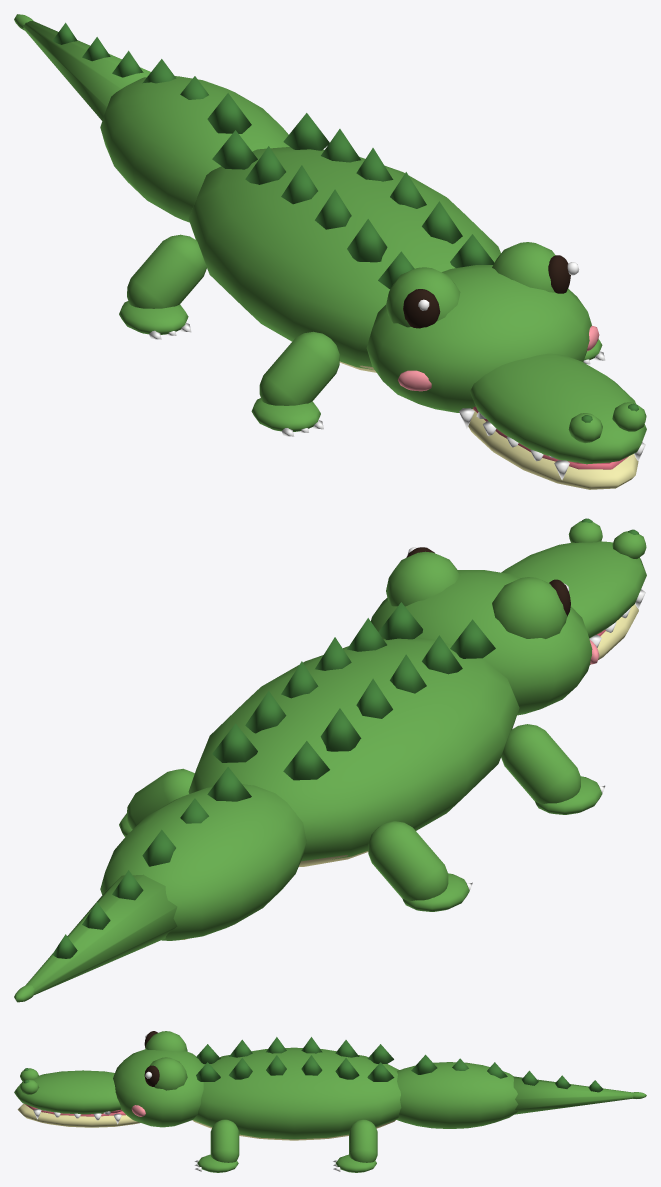
Rendered from crocodile.glb.
The picture shows the model from 3 angles, top to bottom: view 1: azimuth 30°, elevation 25°; view 2: azimuth 150°, elevation 25°; view 3: azimuth 270°, elevation 25°; orthographic projection. The views are drawn at different scales.
Visible parts, largest first — view 1: Croc_Body, Croc_Head, Croc_Tail1, Croc_Leg_FL, Croc_Leg_BL, Croc_Tail2, Croc_Jaw; view 2: Croc_Body, Croc_Head, Croc_Tail1, Croc_Tail2, Croc_Leg_BL, Croc_Leg_FL, Croc_Leg_BR, Croc_Jaw; view 3: Croc_Body, Croc_Head, Croc_Tail1, Croc_Tail2, Croc_Leg_FR, Croc_Leg_BR, Croc_Jaw.
Boxes of the visible parts, x1,y1,x2,y2 form: Croc_Body: (188,113,500,372); Croc_Head: (366,242,646,479); Croc_Tail1: (100,59,289,222); Croc_Leg_FL: (251,331,339,436); Croc_Leg_BL: (119,234,206,339); Croc_Tail2: (14,14,150,120); Croc_Jaw: (468,406,638,489); Croc_Body: (188,602,519,866); Croc_Head: (371,518,646,715); Croc_Tail1: (100,767,306,940); Croc_Tail2: (14,870,177,1002); Croc_Leg_BL: (368,821,472,911); Croc_Leg_FL: (501,724,605,814); Croc_Leg_BR: (119,768,194,836); Croc_Jaw: (590,604,638,664); Croc_Body: (192,1037,401,1140); Croc_Head: (14,1031,204,1127); Croc_Tail1: (396,1054,518,1128); Croc_Tail2: (513,1070,646,1114); Croc_Leg_FR: (194,1119,239,1172); Croc_Leg_BR: (333,1119,377,1172); Croc_Jaw: (17,1103,140,1127).
Size of the model in its own units: 0.59 by 0.2808 by 1.83.
